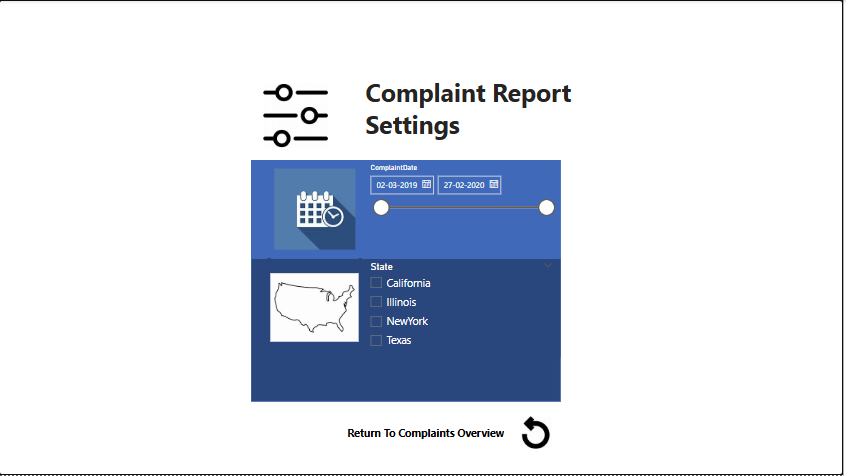

What the dashboard file says about the page in this screenshot:
{"tool":"powerbi","page":{"name":"Settings","canvas":[1280,720],"ordinal":2},"visuals":[{"type":"shape","box":[382.5,392,469.6,217.8],"z":0},{"type":"slicer","fields":{"Values":["Sheet1.State"]},"box":[551,392,301.1,149.6],"z":1000},{"type":"shape","box":[382.5,242.4,469.6,149.6],"z":2000},{"type":"slicer","fields":{"Values":["Sheet1.ComplaintDate"]},"box":[551,242.4,301.1,149.6],"z":3000},{"type":"image","box":[407.1,392,143.9,149.6],"z":4000},{"type":"image","box":[777.1,625.7,75.7,58.6],"z":5000},{"type":"image","box":[395.7,109.8,107.9,132.5],"z":6000},{"type":"image","box":[412.8,242.4,132.5,149.6],"z":7000},{"type":"textbox","box":[551,109.8,337,132.5],"z":8000},{"type":"shape","box":[528.3,609.7,238.6,92.8],"z":9000}]}

Visuals, with their boxes in screenshot pixels (x1, y1, x2, y2), scaled from the page's 1280x720 canvas onto the 846x476 screenshot:
shape: box(253, 259, 563, 403)
slicer - Sheet1.State: box(364, 259, 563, 358)
shape: box(253, 160, 563, 259)
slicer - Sheet1.ComplaintDate: box(364, 160, 563, 259)
image: box(269, 259, 364, 358)
image: box(514, 414, 564, 452)
image: box(262, 73, 333, 160)
image: box(273, 160, 360, 259)
textbox: box(364, 73, 587, 160)
shape: box(349, 403, 507, 464)
